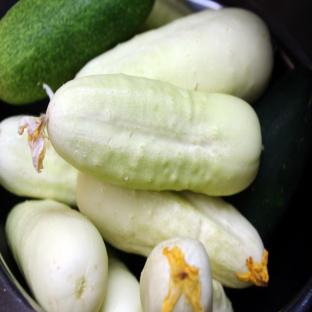Cucumber: (20, 75, 261, 195), (77, 173, 268, 288), (76, 8, 273, 102), (0, 0, 153, 104), (227, 68, 311, 243), (6, 200, 107, 311), (0, 116, 77, 205), (140, 238, 212, 311), (99, 250, 142, 311)
